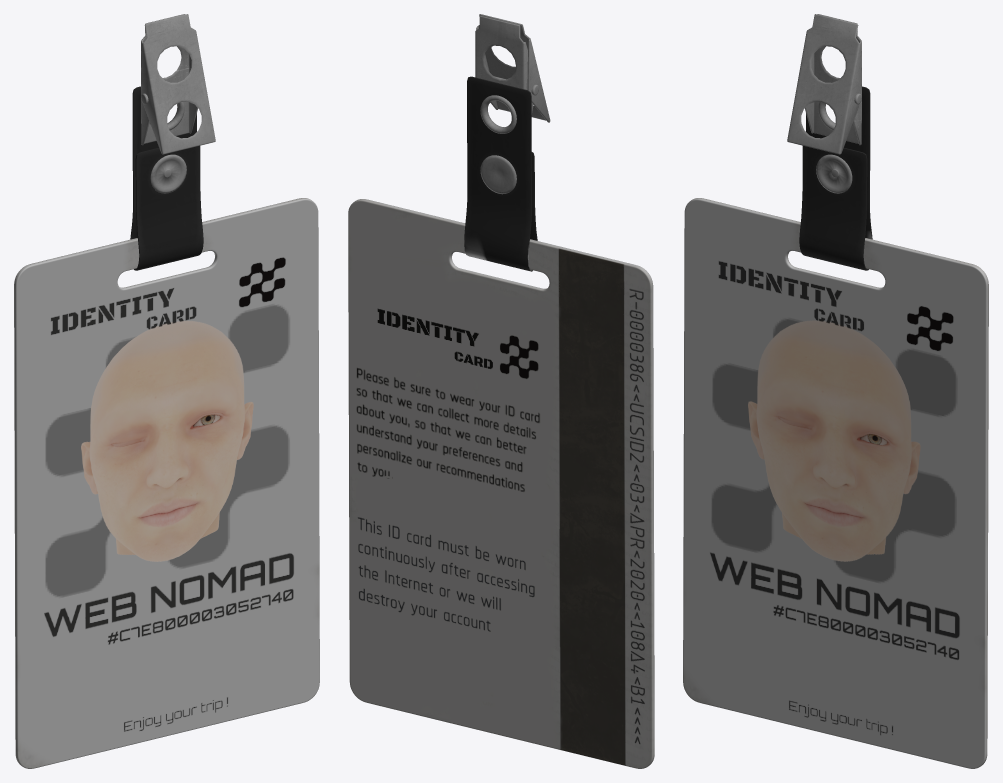
The model's file is IdentitycardFinal.fbx.
3 renders of one model, left to right at view 1: azimuth 30°, elevation 25°; view 2: azimuth 150°, elevation 25°; view 3: azimuth 330°, elevation 25°, orthographic.
Parts seen in each view (by area): view 1: identitycard; view 2: identitycard; view 3: identitycard.
Part boxes in pixels (left/top/right/bottom): identitycard: left=14, top=14, right=319, bottom=768; identitycard: left=348, top=14, right=654, bottom=768; identitycard: left=683, top=14, right=988, bottom=768.
Bounding box in the file's own units: 5398 × 12187 × 867.
1 material, 1 textured.
